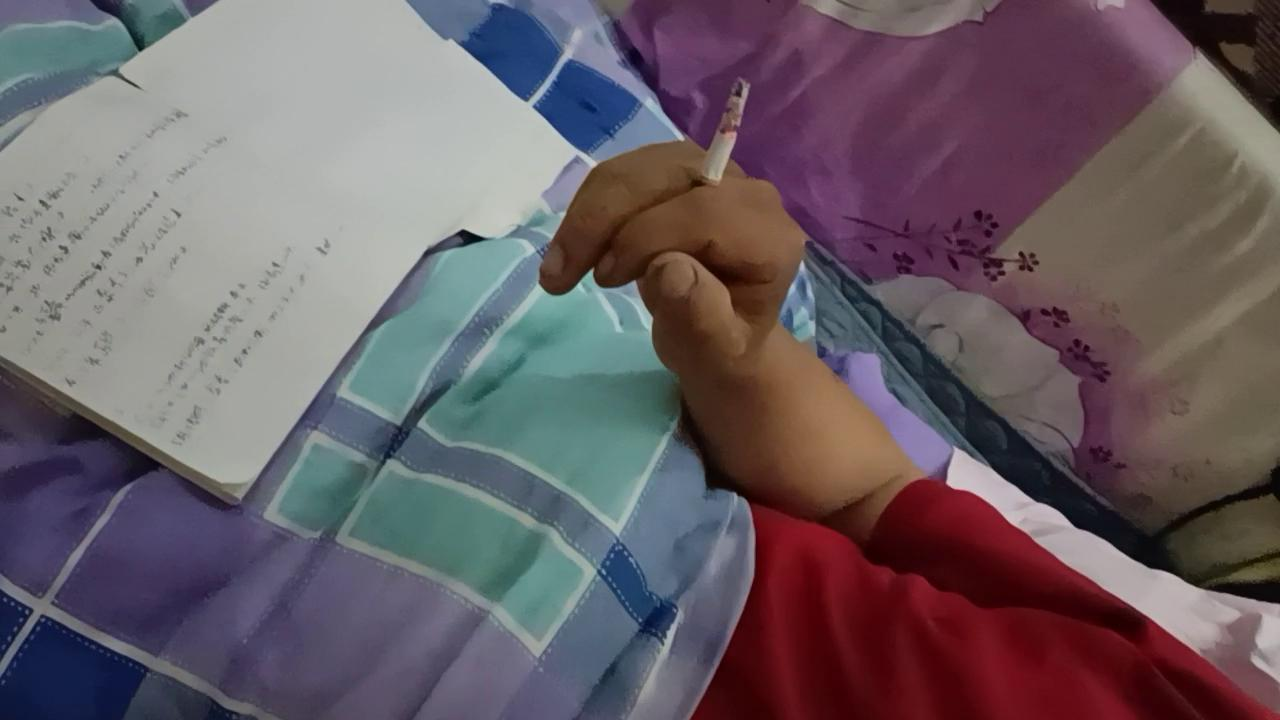smoke: (685, 74, 755, 216)
